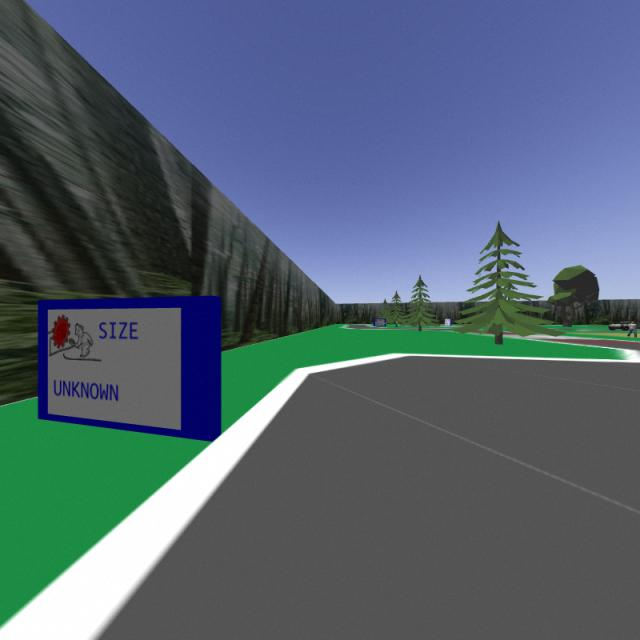clueboard: (35, 292, 226, 449)
